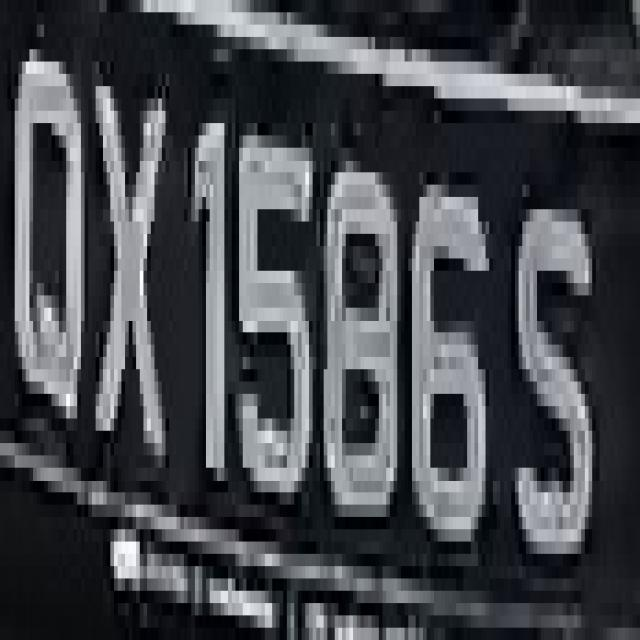1: (180, 74, 232, 517)
5: (239, 135, 327, 554)
6: (408, 111, 489, 591)
8: (324, 123, 404, 542)
Q: (7, 24, 81, 456)
S: (508, 160, 603, 554)
X: (70, 74, 173, 480)
